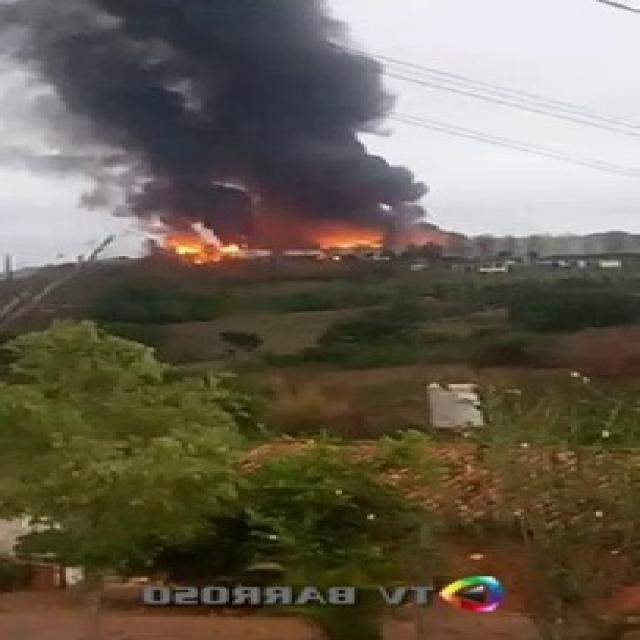Fire: (147, 227, 251, 267), (308, 220, 389, 252)
Smoke: (0, 0, 461, 254)
